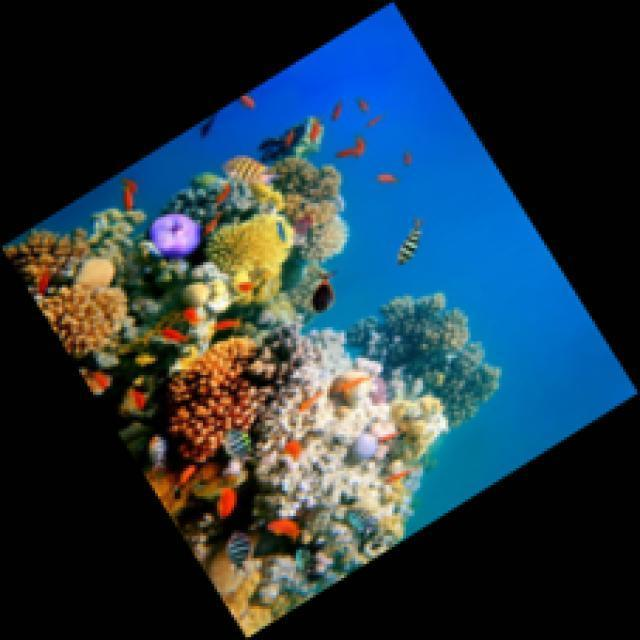Bleached: (258, 333, 395, 523)
Healthy: (166, 338, 259, 464), (210, 217, 295, 307), (210, 533, 274, 640), (152, 216, 202, 255), (352, 437, 377, 464)
